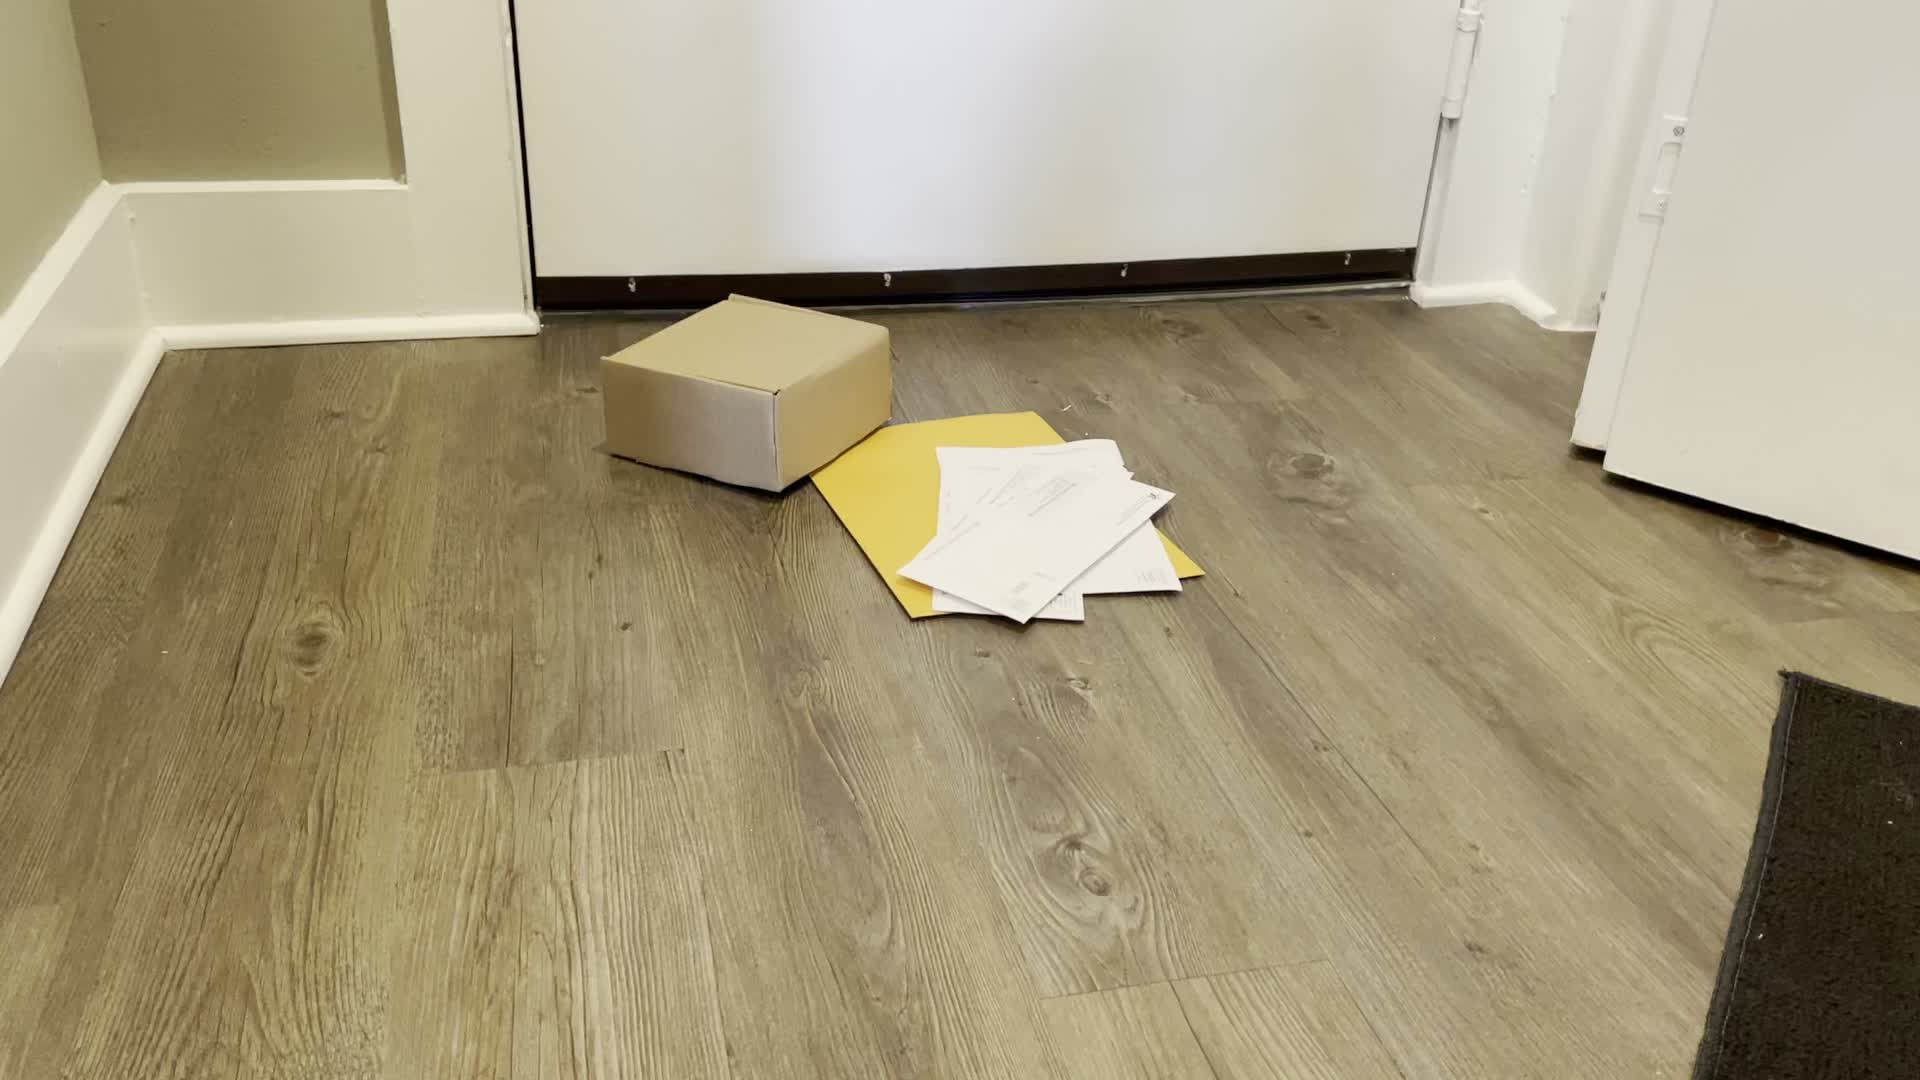box: (584, 290, 906, 505)
envelope: (816, 404, 1208, 622), (881, 443, 1183, 615)
